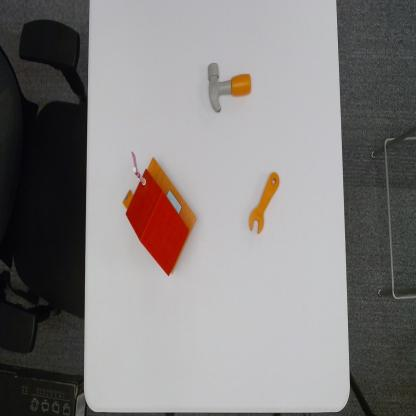Hammer: (207, 59, 253, 118)
House: (122, 148, 198, 280)
Screwdriver: (249, 168, 280, 235)
